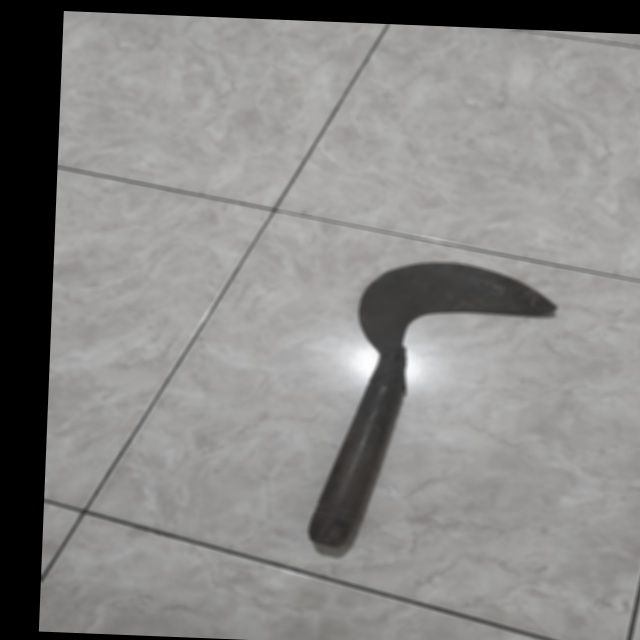Sharp-Object: (307, 238, 566, 577)
